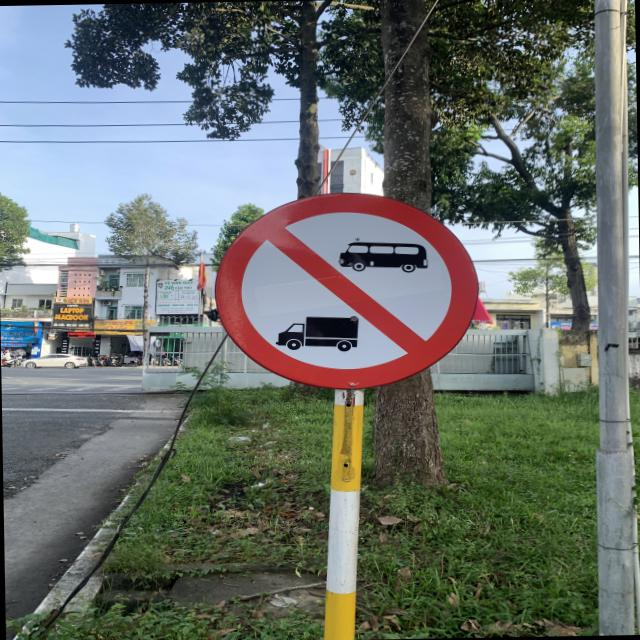Cam_XeTai_XeKhach: (210, 190, 484, 390)
